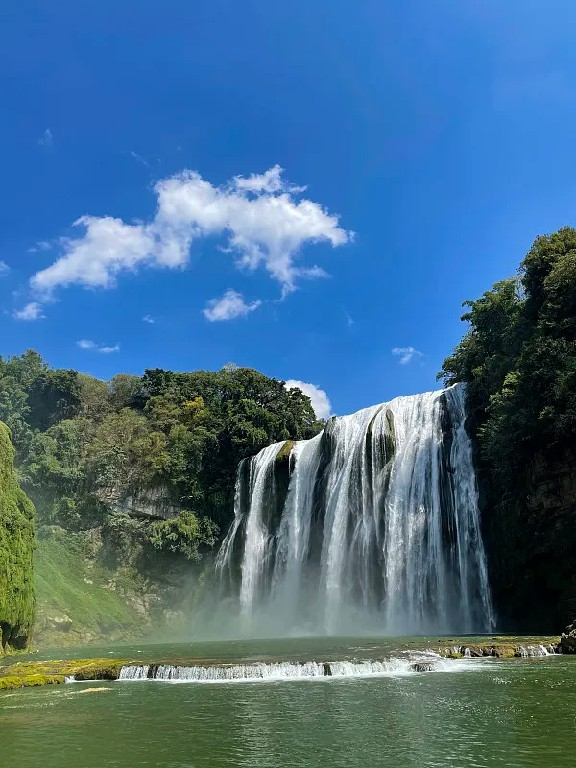Huangguoshu: (215, 382, 497, 637)
